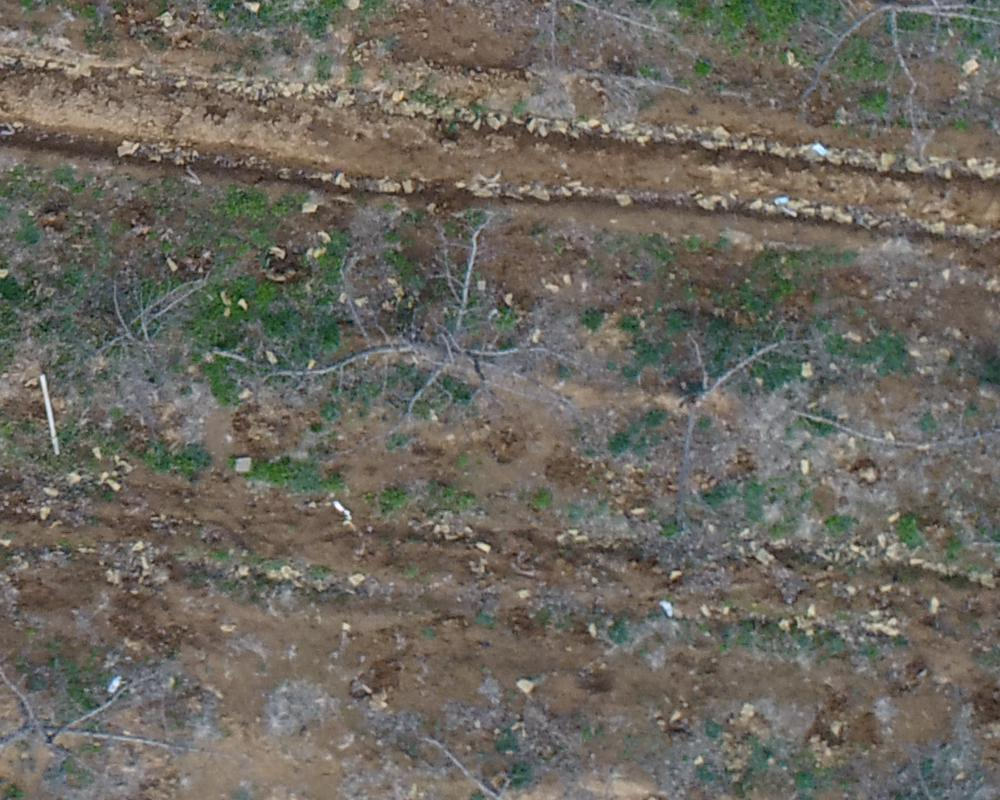apple: (235, 215, 563, 438), (642, 313, 813, 477), (10, 643, 191, 790), (50, 246, 228, 393)
